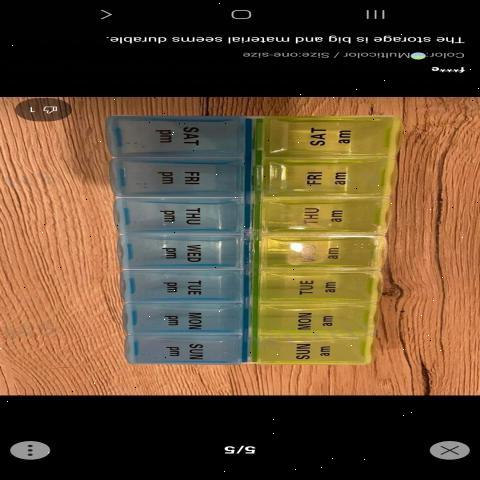PillBox: (90, 102, 400, 390)
